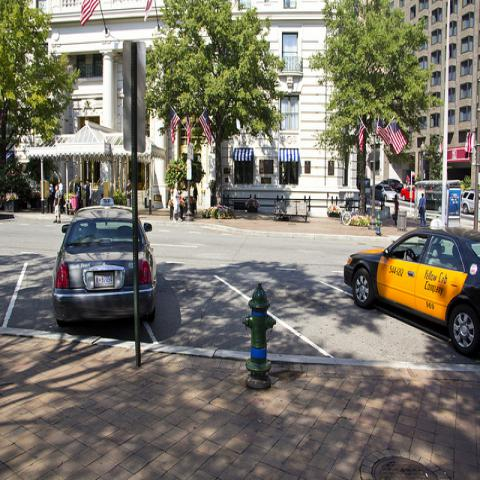car: (343, 227, 479, 355), (57, 203, 158, 326), (371, 184, 397, 203), (460, 190, 479, 215), (380, 177, 403, 193), (401, 184, 414, 202)
